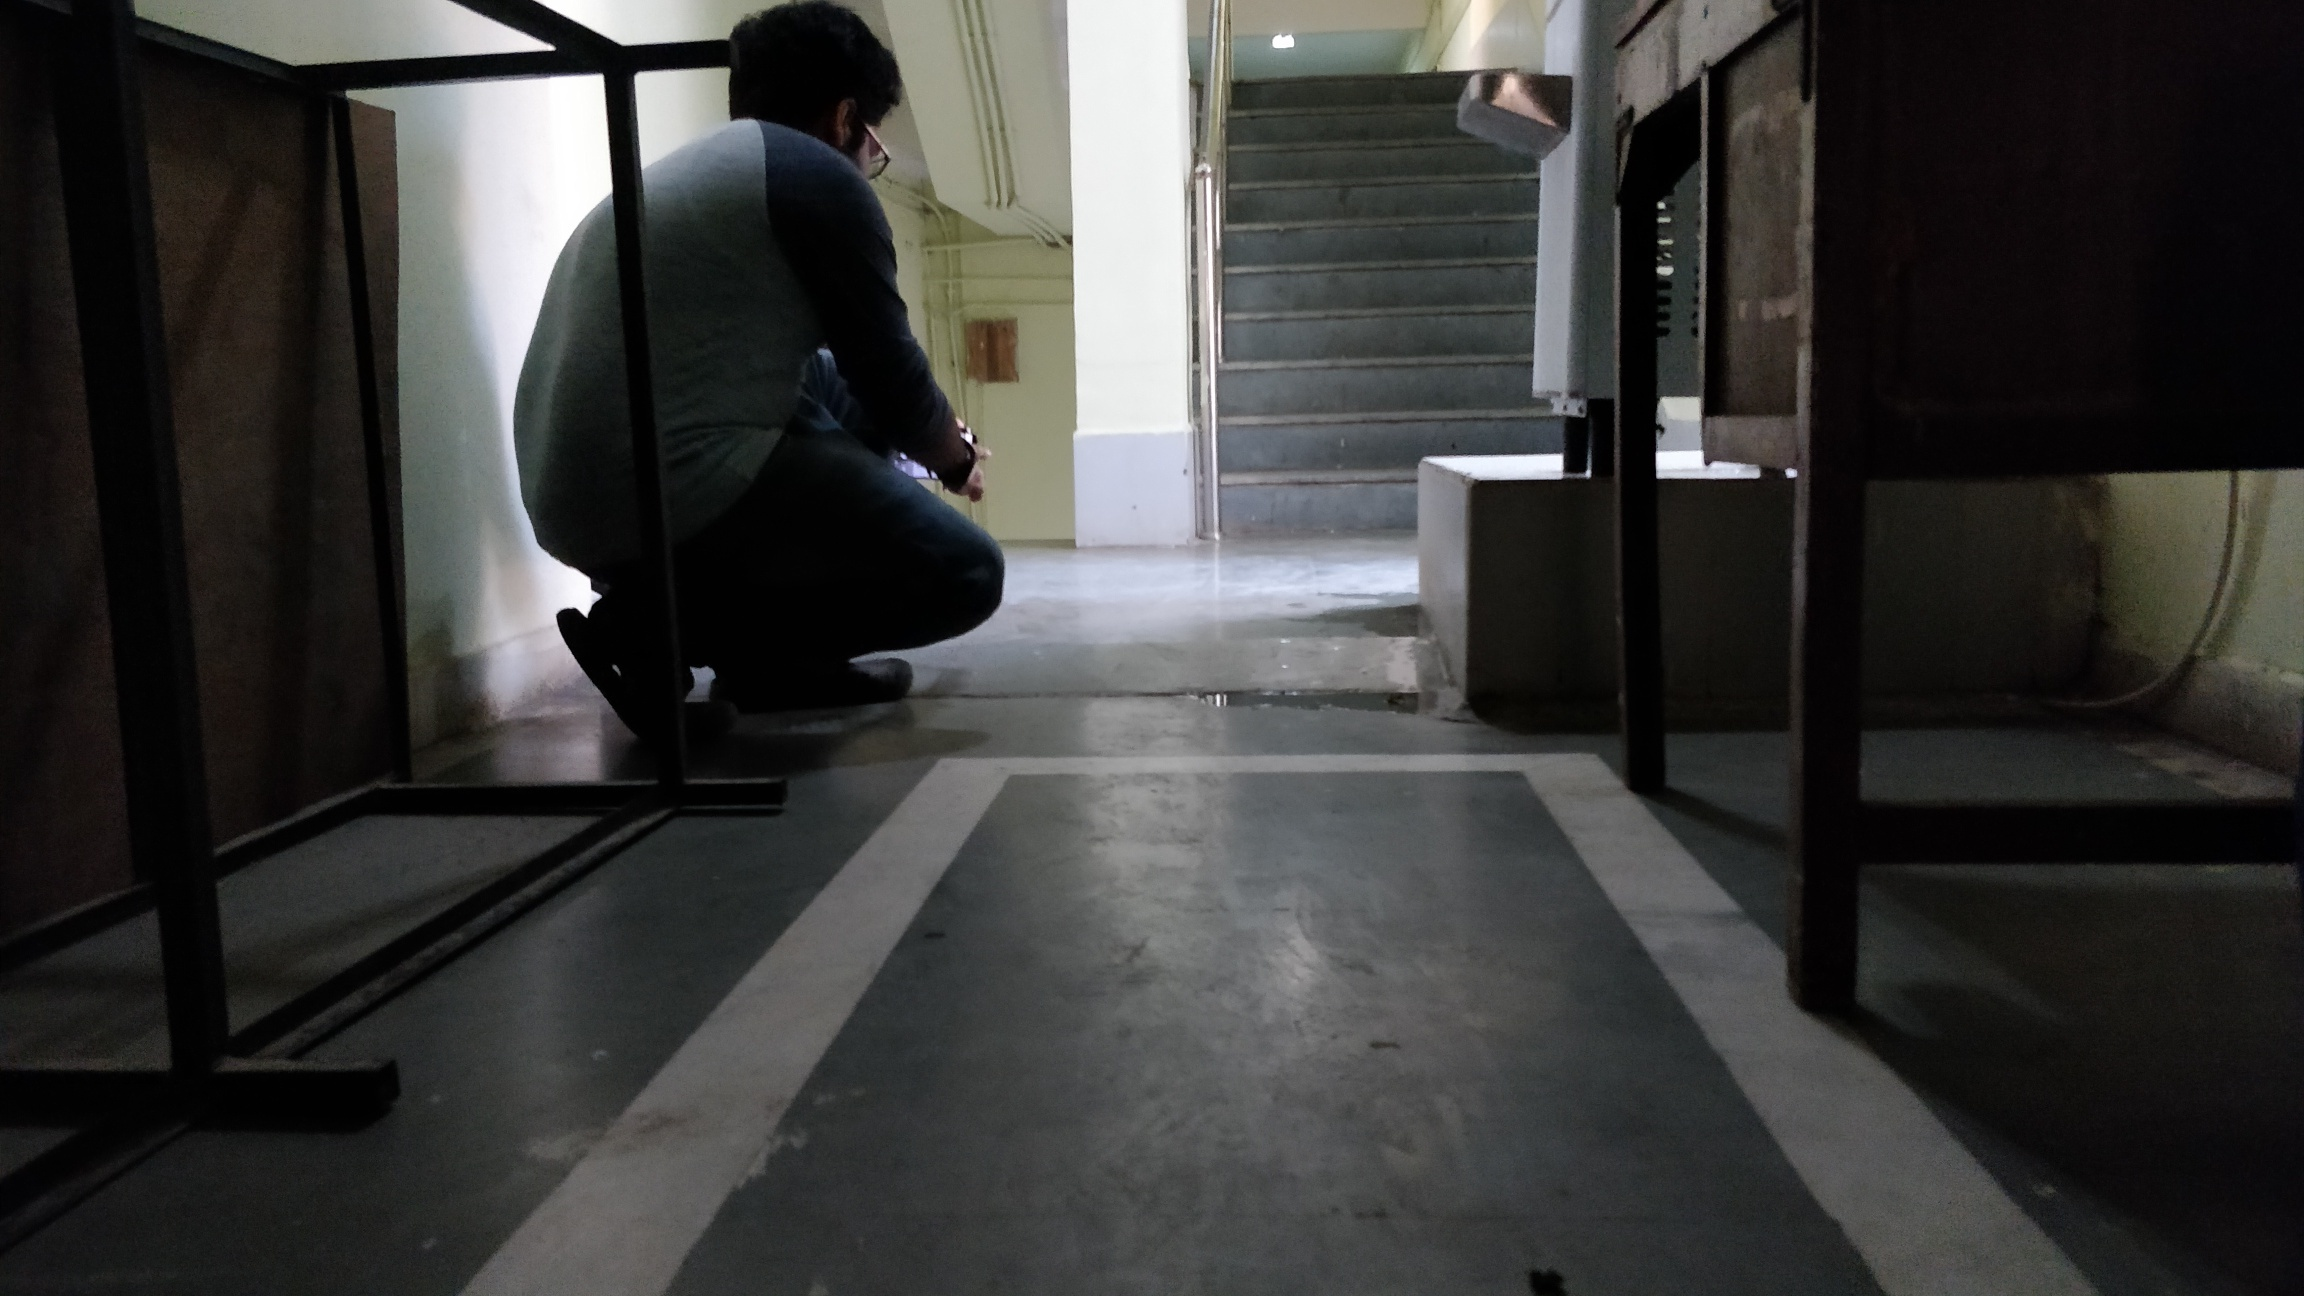stairs_up: (1233, 70, 1551, 552)
